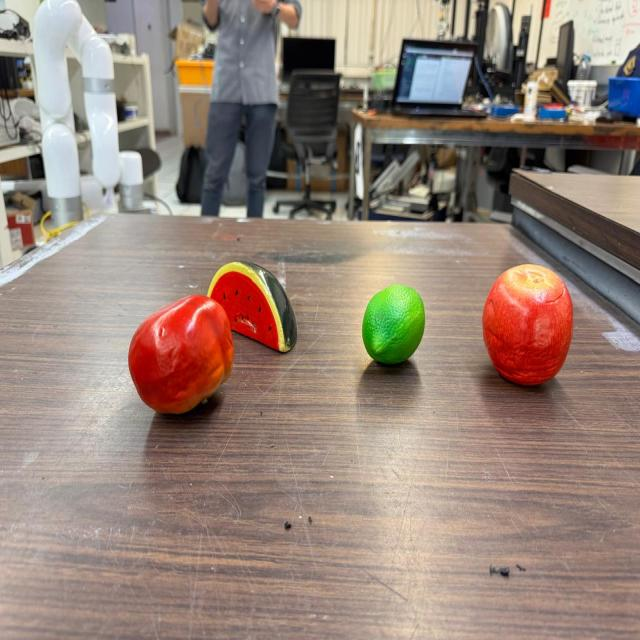apple: (482, 264, 574, 384)
lemon: (361, 285, 425, 365)
tomato: (127, 295, 235, 413)
watermelon: (210, 262, 298, 354)
